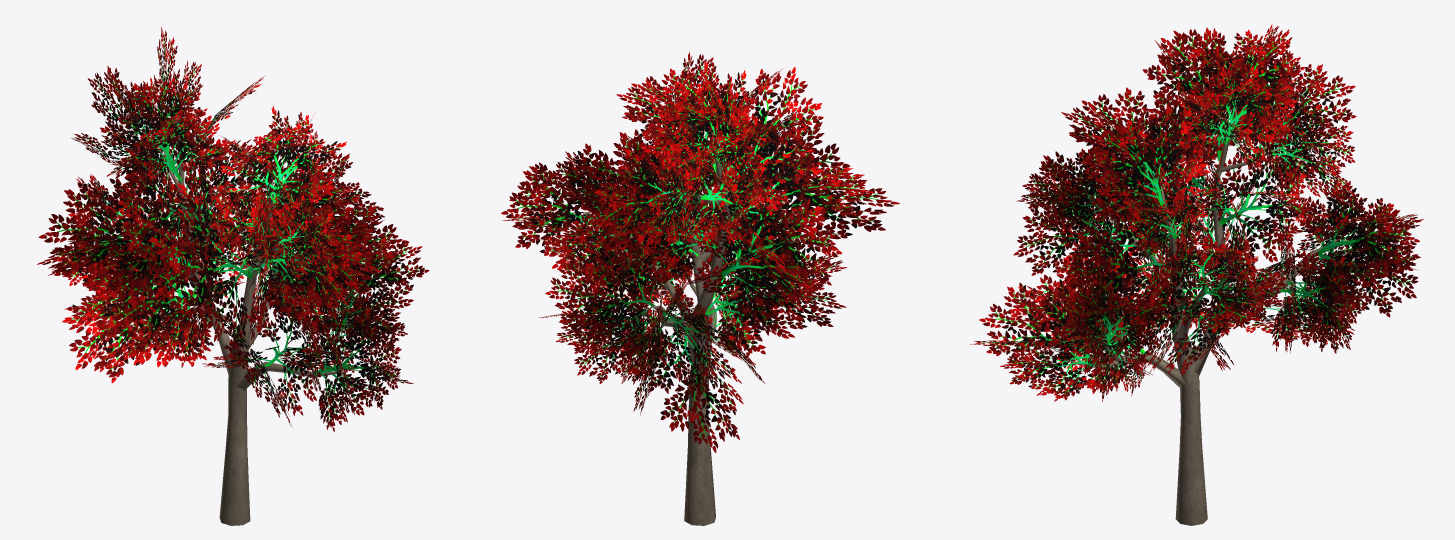
Rendered from SM_Tree_01.fbx.
The picture shows the model from 3 angles, left to right: view 1: azimuth 30°, elevation 25°; view 2: azimuth 150°, elevation 25°; view 3: azimuth 270°, elevation 25°; orthographic projection. The views are drawn at different scales.
Visible parts, largest first — view 1: SM_Tree_01_LOD0; view 2: SM_Tree_01_LOD0; view 3: SM_Tree_01_LOD0.
Boxes of the visible parts, box(x1,y1,x2,y2) form: SM_Tree_01_LOD0: box(37, 26, 429, 525); SM_Tree_01_LOD0: box(501, 52, 899, 525); SM_Tree_01_LOD0: box(970, 24, 1423, 525).
Size of what is drawn, in the model's own units: 971 by 1263 by 1132.
